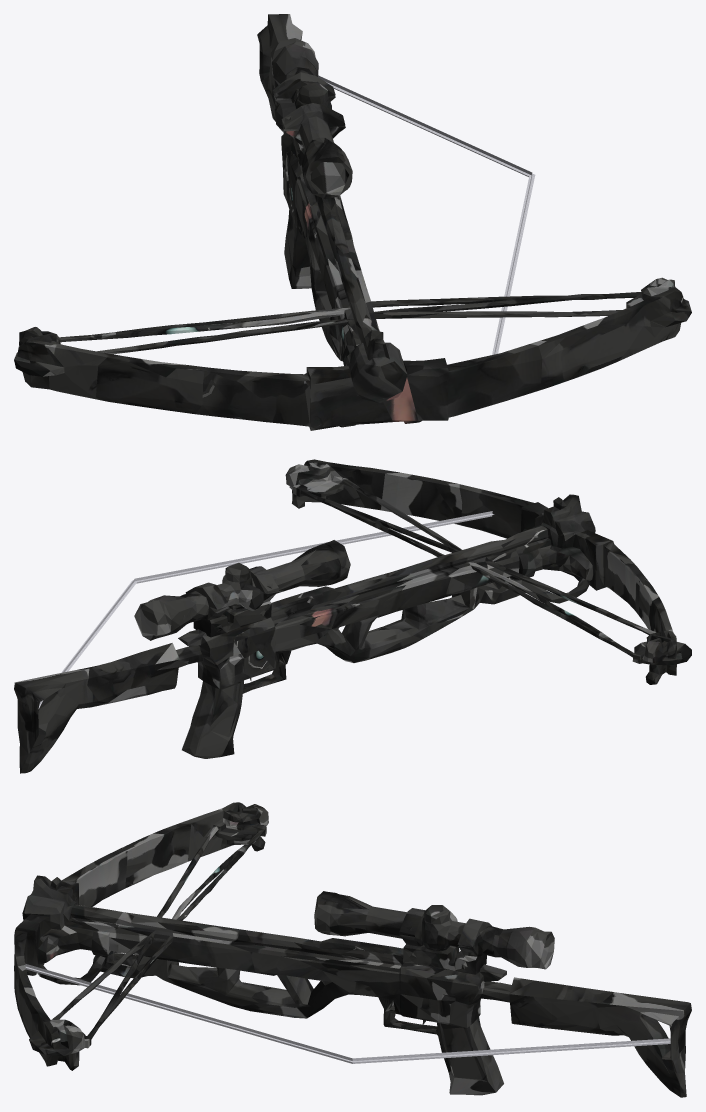
The model's file is crossbow_pulling_2.obj.
The picture shows the model from 3 angles, top to bottom: view 1: azimuth 30°, elevation 25°; view 2: azimuth 150°, elevation 25°; view 3: azimuth 270°, elevation 25°; orthographic projection. The views are drawn at different scales.
Parts seen in each view (by area): view 1: crossbow; view 2: crossbow; view 3: crossbow.
Part boxes in pixels (left/top/right/bottom): crossbow: left=14, top=14, right=691, bottom=430; crossbow: left=14, top=459, right=691, bottom=773; crossbow: left=14, top=802, right=691, bottom=1097.
Bounding box in the file's own units: 0.8434 × 0.2903 × 0.9801.
